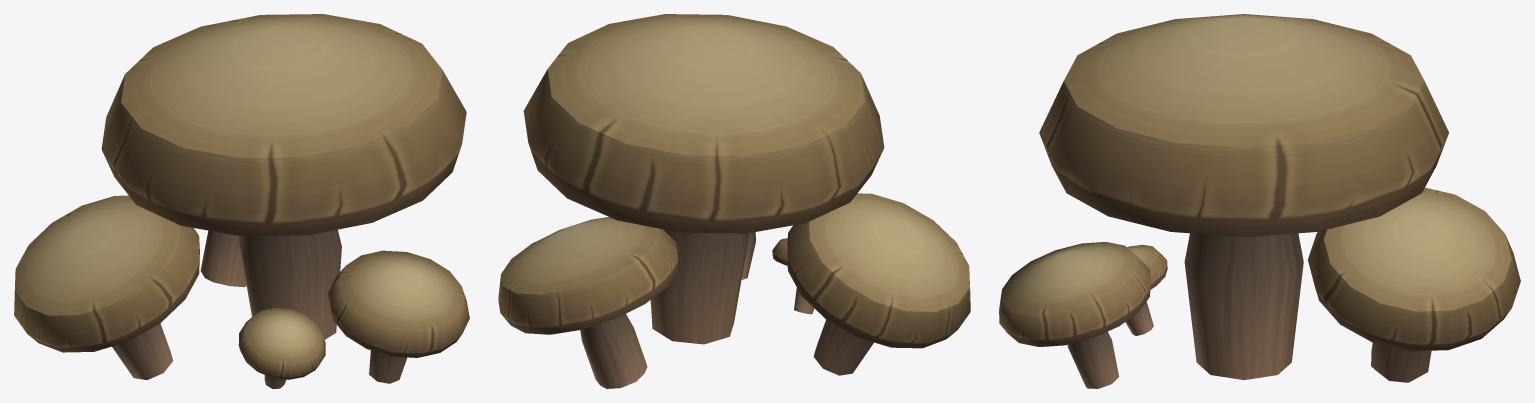
File: VEG0110009.fbx
3 views of the same model, side by side, from view 1: azimuth 30°, elevation 25°; view 2: azimuth 150°, elevation 25°; view 3: azimuth 270°, elevation 25° (orthographic). The views are drawn at different scales.
Parts seen in each view (by area): view 1: smVEG0110009; view 2: smVEG0110009; view 3: smVEG0110009.
Part boxes in pixels (left/top/right/bottom): smVEG0110009: left=14, top=14, right=469, bottom=388; smVEG0110009: left=498, top=14, right=970, bottom=388; smVEG0110009: left=999, top=14, right=1520, bottom=388.
Bounding box in the file's own units: 43.57 × 31.05 × 42.48.
Materials: 1 (1 with a texture image).
